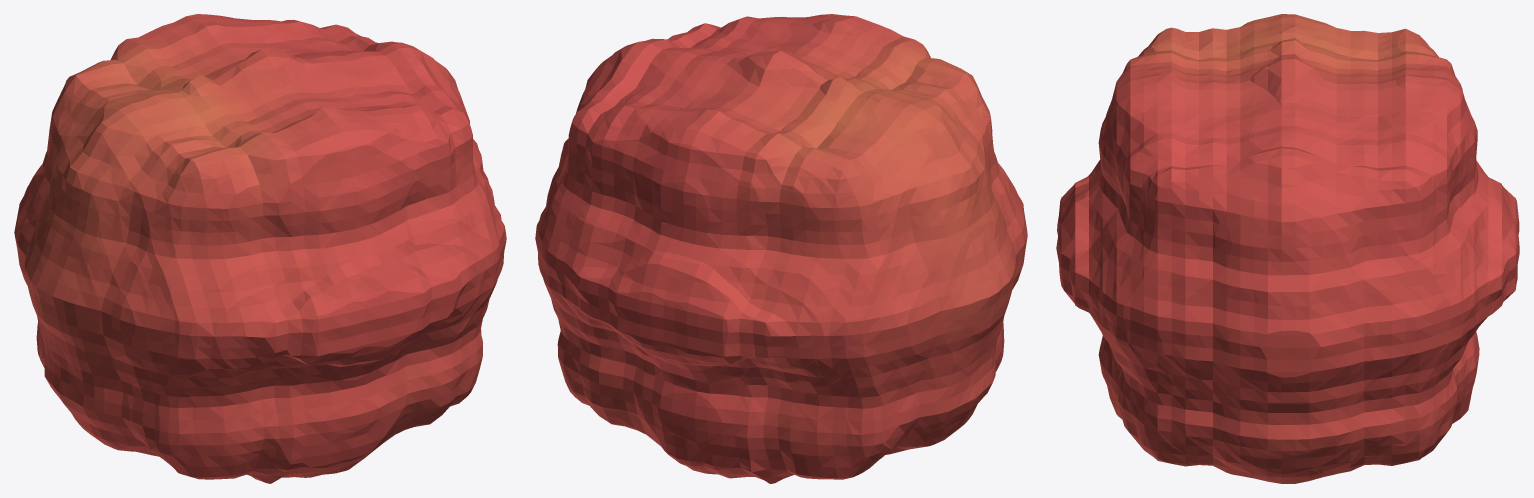
3 renders of one model, left to right at view 1: azimuth 30°, elevation 25°; view 2: azimuth 150°, elevation 25°; view 3: azimuth 270°, elevation 25°, orthographic.
Visible parts, largest first — view 1: geometry_0; view 2: geometry_0; view 3: geometry_0.
Part boxes in pixels (bbox=[...]): geometry_0: bbox=[14, 14, 506, 483]; geometry_0: bbox=[535, 14, 1027, 483]; geometry_0: bbox=[1056, 14, 1519, 483].
Bounding box in the file's own units: 1.58 × 1.38 × 1.43.
